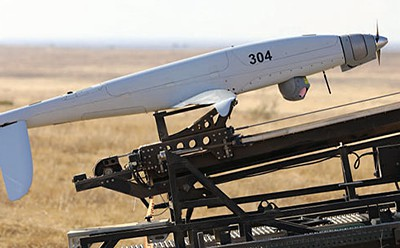maybay_khongnguoilai: (10, 29, 364, 186)
